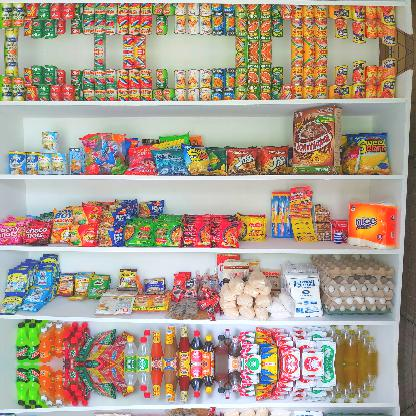Koko-Krunch: (292, 106, 341, 174)
